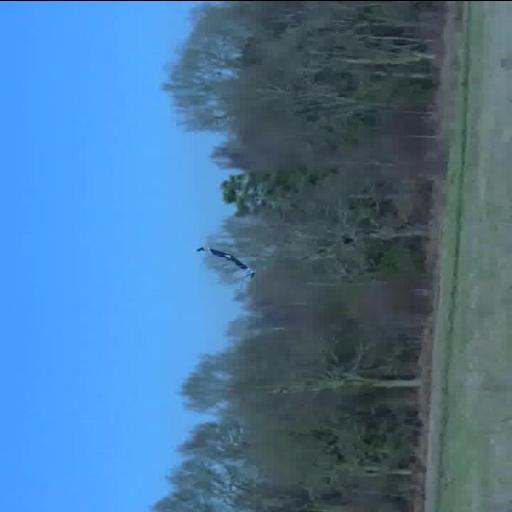uav: (193, 244, 261, 278)
